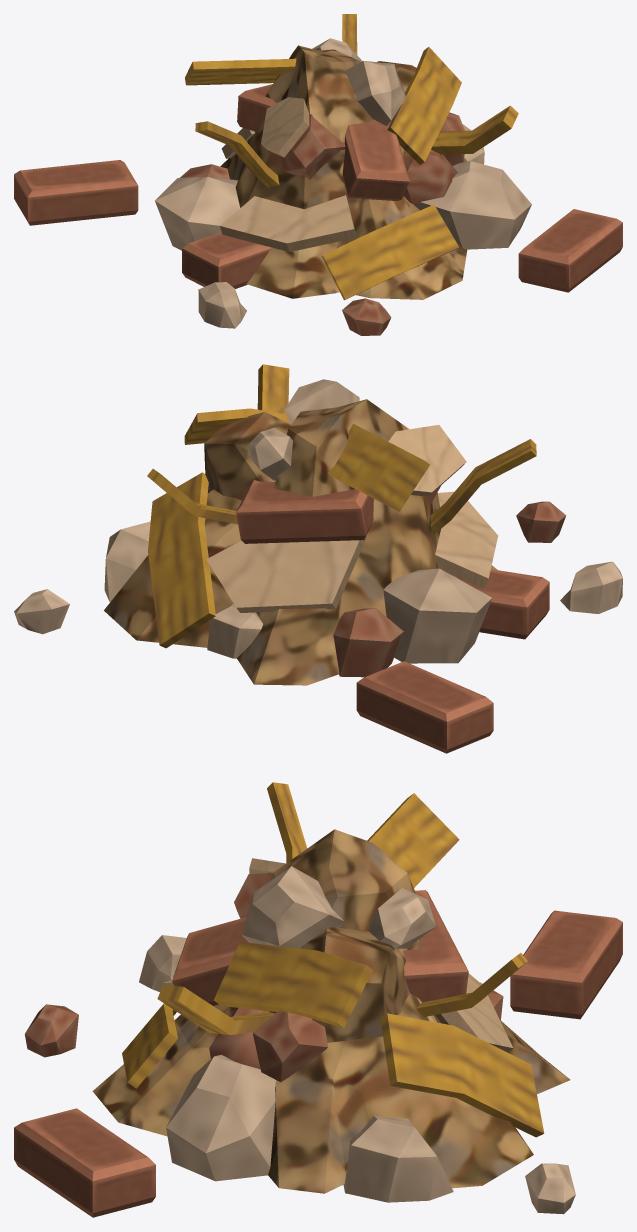
File: JunkMountain_HD.fbx
3 renders of one model, top to bottom at view 1: azimuth 30°, elevation 25°; view 2: azimuth 150°, elevation 25°; view 3: azimuth 270°, elevation 25°, orthographic. The views are drawn at different scales.
Visible parts, largest first — view 1: JunkMountain; view 2: JunkMountain; view 3: JunkMountain.
Boxes of the visible parts, x1=… form: JunkMountain: x1=14, y1=14, x2=622, y2=335; JunkMountain: x1=14, y1=364, x2=622, y2=753; JunkMountain: x1=14, y1=782, x2=622, y2=1217.
Size of the model in its own units: 2 by 0.8583 by 1.91.
